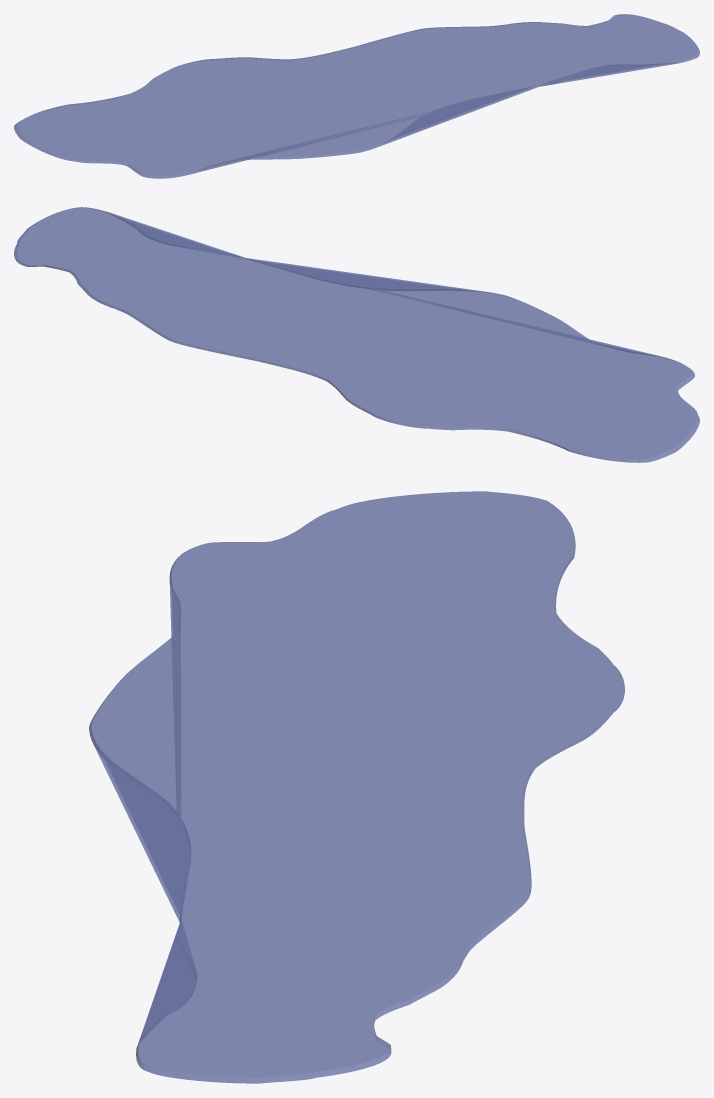
File: waterpuddle.fbx
3 views of the same model, one above another, from view 1: azimuth 30°, elevation 25°; view 2: azimuth 150°, elevation 25°; view 3: azimuth 270°, elevation 25° (orthographic). The views are drawn at different scales.
Visible parts, largest first — view 1: GP_Layer; view 2: GP_Layer; view 3: GP_Layer.
Part boxes in pixels (left/top/right/bottom): GP_Layer: left=14, top=14, right=699, bottom=178; GP_Layer: left=14, top=207, right=699, bottom=462; GP_Layer: left=89, top=491, right=624, bottom=1083.
Size of the model in its own units: 740 by 1.84 by 283.
